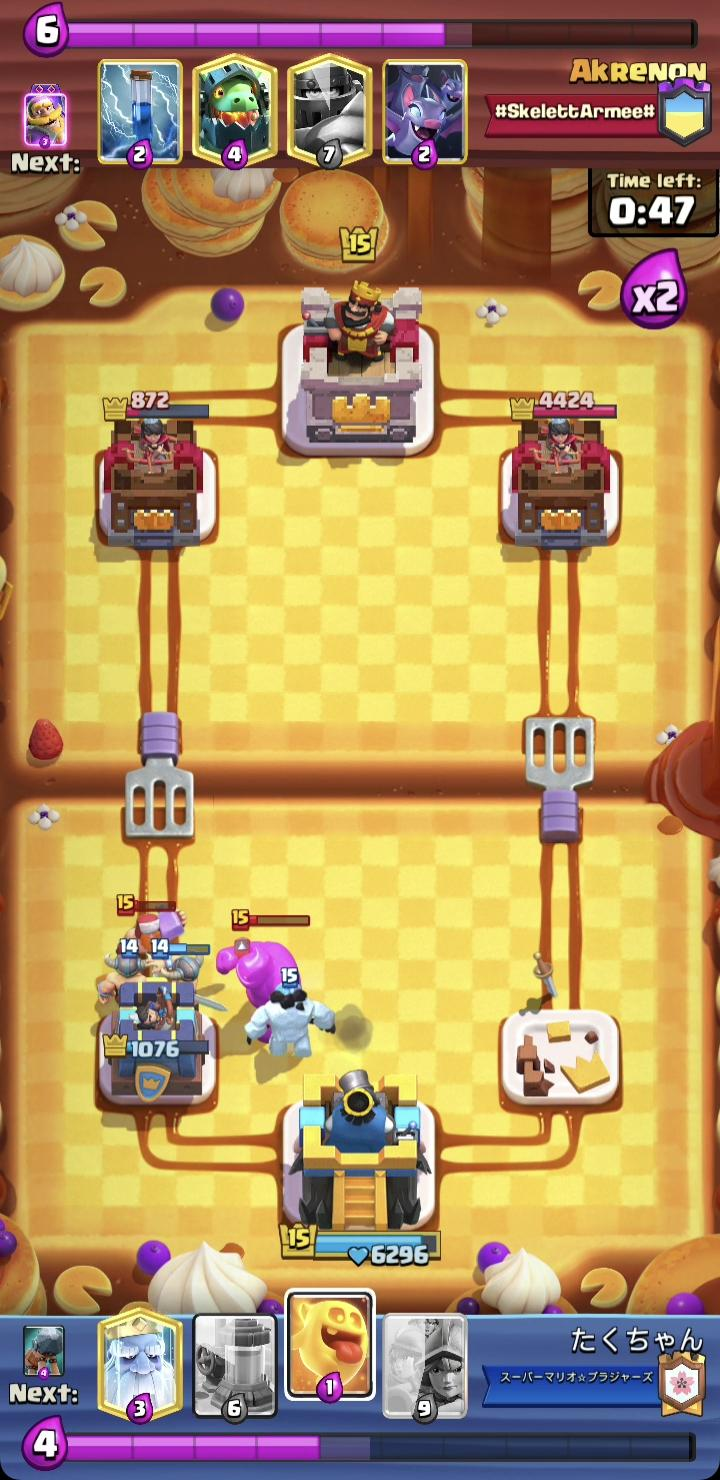ally_elite_barbarian: (151, 934, 228, 1020), (97, 936, 160, 1015)
ally_ice_golem: (241, 961, 337, 1060)
enemy_elixirgolem: (217, 908, 314, 1044)
enemy_lumberjack: (114, 892, 197, 976)
